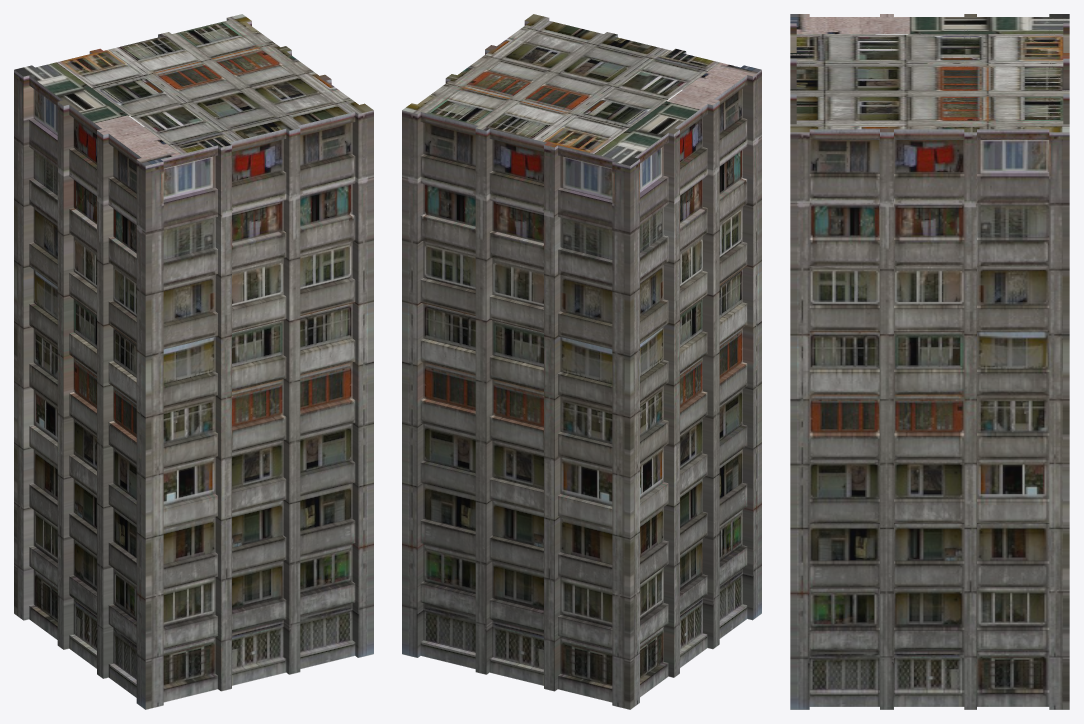
Rendered from building2.fbx.
The picture shows the model from 3 angles, left to right: view 1: azimuth 30°, elevation 25°; view 2: azimuth 150°, elevation 25°; view 3: azimuth 270°, elevation 25°; orthographic projection. The views are drawn at different scales.
Parts seen in each view (by area): view 1: building2; view 2: building2; view 3: building2.
Boxes of the visible parts, <box> form: building2: <box>14,14,373,709</box>; building2: <box>402,14,761,709</box>; building2: <box>790,14,1069,709</box>.
Bounding box in the file's own units: 21.11 × 21.06 × 48.06.
Materials: 1 (1 with a texture image).
